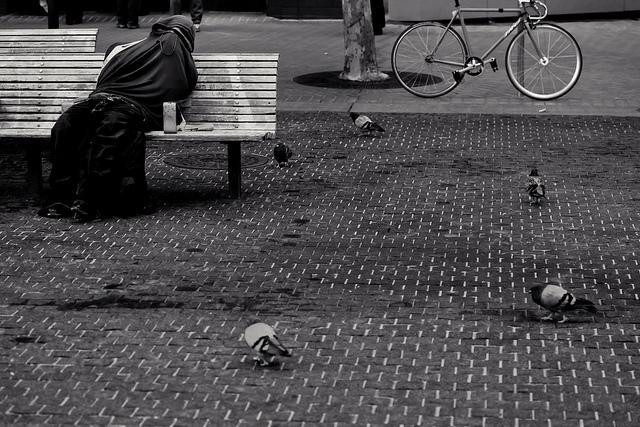bicycle: (392, 0, 582, 101)
